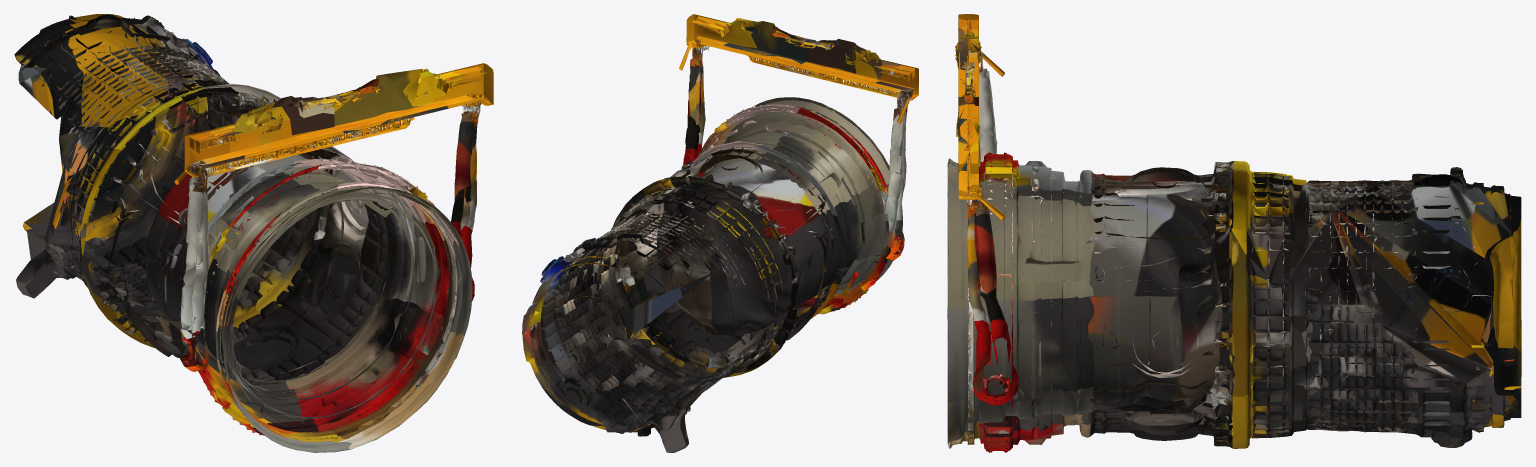
The model's file is technology-01.glb.
3 views of the same model, side by side, from view 1: azimuth 30°, elevation 25°; view 2: azimuth 150°, elevation 25°; view 3: azimuth 270°, elevation 25° (orthographic). The views are drawn at different scales.
Size of the model in its own units: 0.9476 by 1.1 by 1.55.
1 material, 1 textured.
